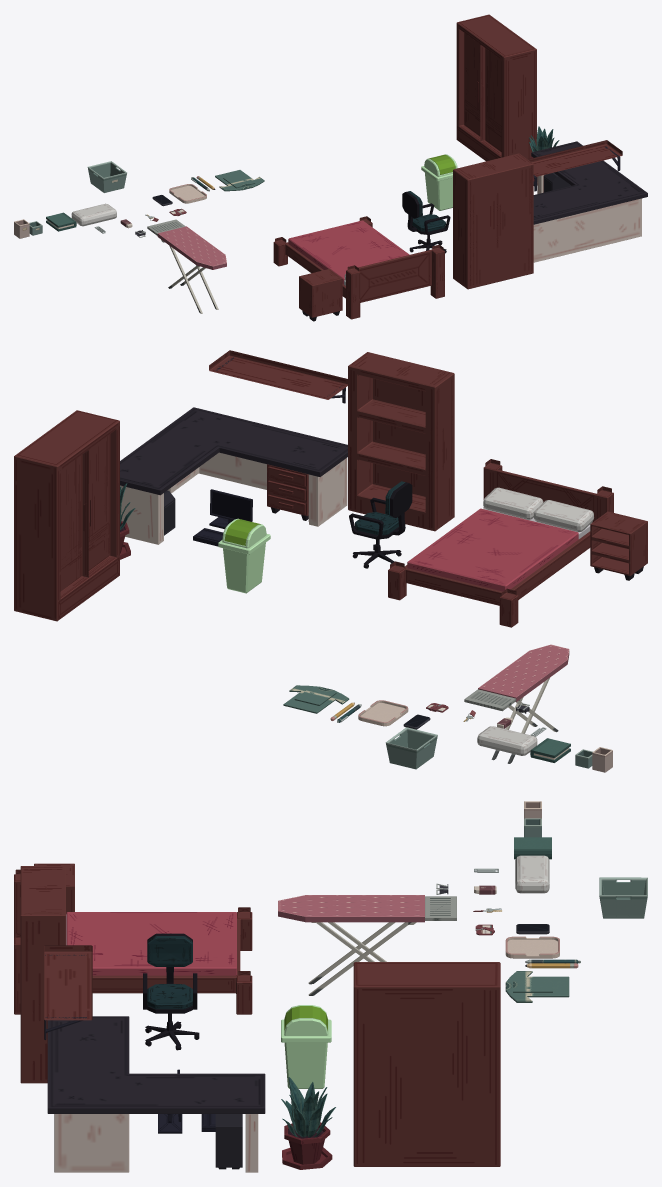
Rendered from Room2.fbx.
3 views of the same model, one above another, from view 1: azimuth 30°, elevation 25°; view 2: azimuth 150°, elevation 25°; view 3: azimuth 270°, elevation 25° (orthographic). The views are drawn at different scales.
Visible parts, largest first — view 1: Shelf, Table, Closet, Bed, ClosetDoor, Bed.001, DrawerBody.001, Board, Plank, Chair2, Storage Bin, can2 (+3 smaller); view 2: Shelf, Table, Closet, Bed.001, ClosetDoor, Bed, Plank, DrawerBody.001, Board, Chair2, Storage Bin, can2 (+10 smaller); view 3: Closet, Table, Bed.001, Shelf, Board, Bed, Plank, Chair, Storage Bin, can2, Cylinder, PC (+11 smaller).
Boxes of the visible parts, x1,y1,x2,y2 form: Shelf: (453,153,533,289); Table: (531,141,647,262); Closet: (456,14,536,161); Bed: (273,216,444,319); ClosetDoor: (459,29,501,156); Bed.001: (288,220,409,285); DrawerBody.001: (299,269,342,321); Board: (147,219,226,269); Plank: (528,140,622,177); Chair2: (402,191,450,253); Storage Bin: (87,161,126,192); can2: (424,172,452,210); Shelf: (348,352,454,531); Table: (120,407,347,544); Closet: (14,410,119,621); Bed.001: (407,508,591,591); ClosetDoor: (60,430,116,597); Bed: (388,459,613,627); Plank: (209,350,347,399); DrawerBody.001: (590,511,647,580); Board: (464,644,569,711); Chair2: (349,482,412,568); Storage Bin: (385,727,437,769); can2: (223,542,265,593); Closet: (353,962,500,1166); Table: (47,1016,265,1172); Bed.001: (66,912,236,975); Shelf: (20,866,65,1083); Board: (278,895,456,922); Bed: (14,869,252,1014); Plank: (44,945,92,1020); Chair: (147,936,192,1009); Storage Bin: (599,877,647,918); can2: (284,1042,327,1088); Cylinder: (282,1122,332,1169); PC: (215,1114,242,1169).
Size of the model in its own units: 18.5 by 6.31 by 13.98.
Materials: 55 (49 with a texture image).
